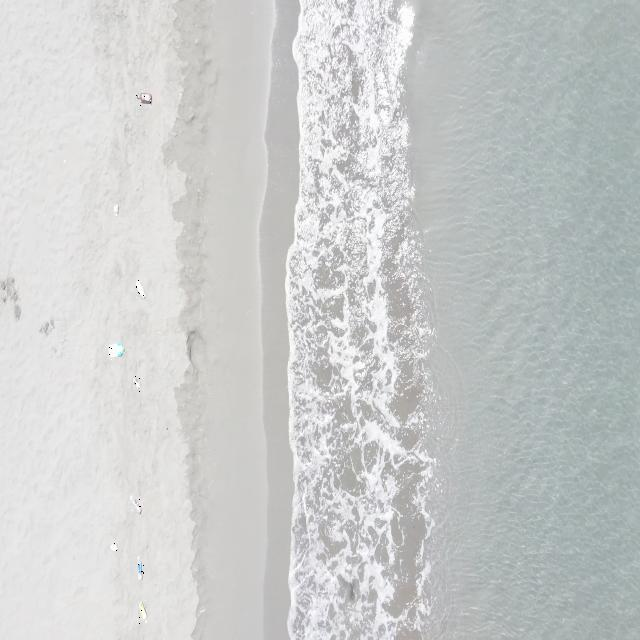Garbage: (108, 342, 123, 356), (129, 495, 140, 513), (136, 91, 151, 103), (136, 555, 143, 579), (139, 601, 145, 623), (132, 375, 140, 391), (136, 280, 143, 296), (112, 203, 118, 215), (110, 540, 114, 551)
